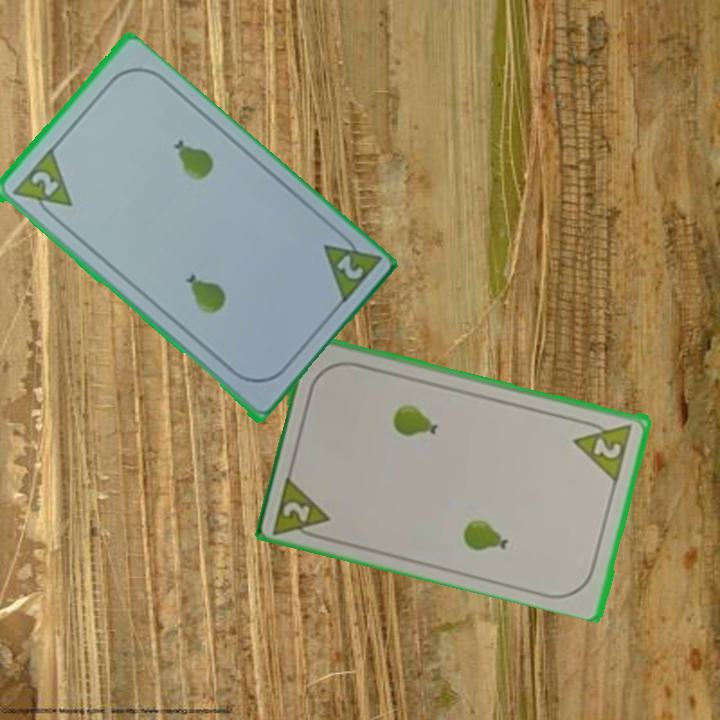2p: (269, 470, 334, 544), (571, 415, 636, 483), (27, 167, 61, 200), (332, 251, 366, 283)
